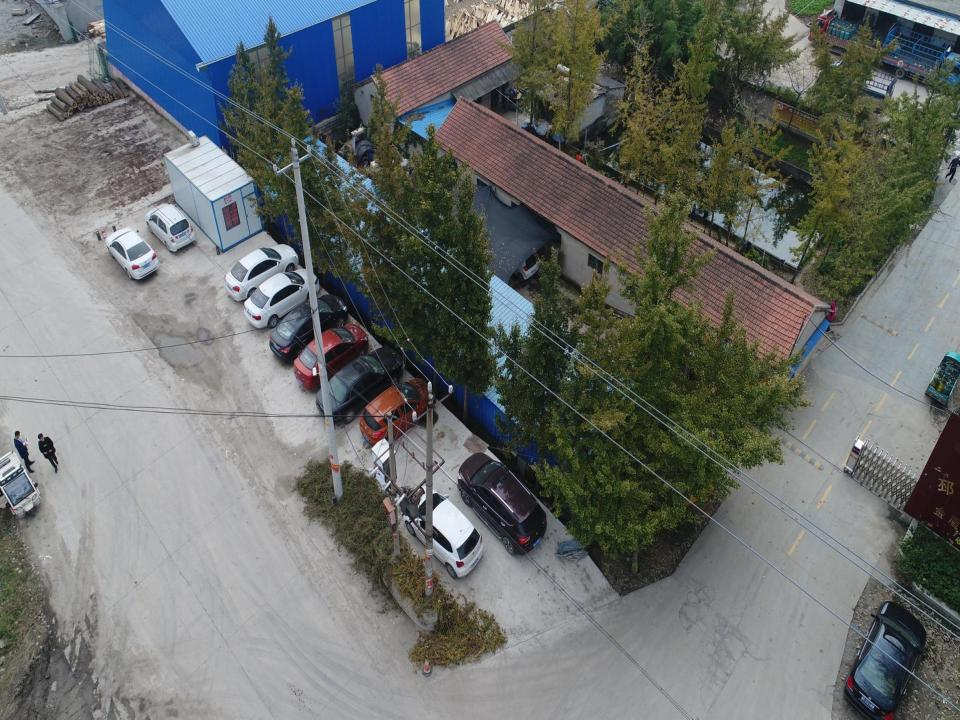car: (842, 601, 927, 719), (459, 452, 547, 556), (404, 487, 482, 578), (316, 345, 404, 424), (269, 293, 348, 363), (360, 378, 436, 448), (294, 324, 368, 390), (243, 269, 319, 328), (224, 244, 299, 302), (106, 227, 159, 281), (146, 204, 196, 252), (506, 239, 540, 283)
truck: (880, 23, 960, 96), (807, 7, 882, 69), (824, 60, 896, 114)
